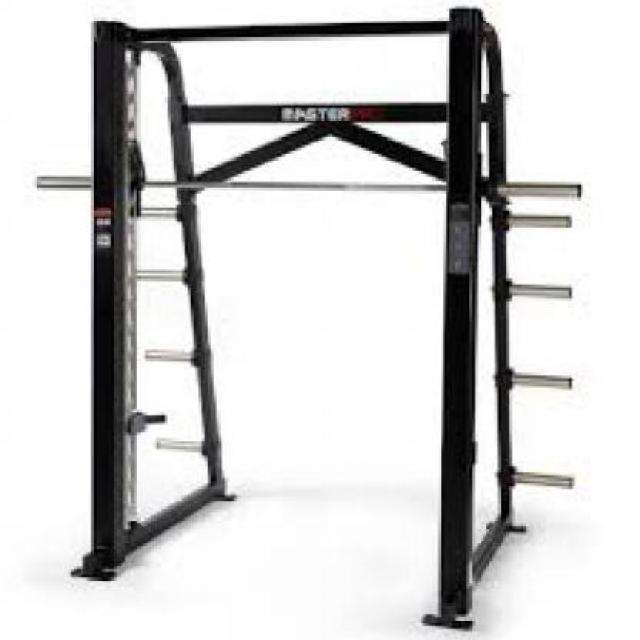smith machine: (37, 6, 580, 632)
